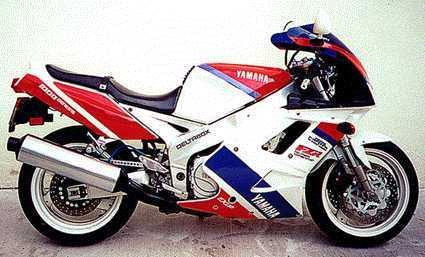motorcycle: (10, 13, 425, 254)
